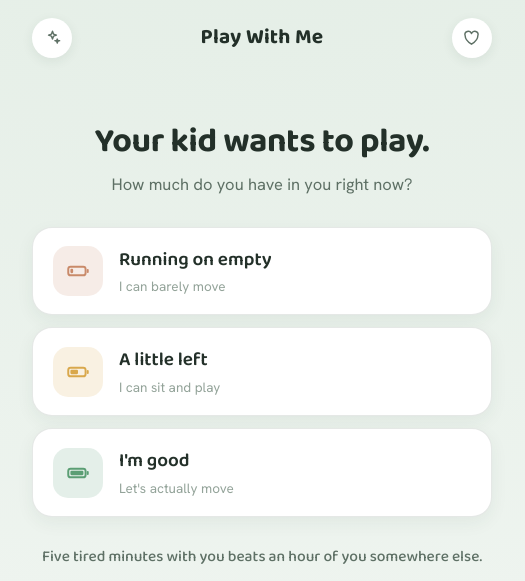
favourites › hearts an idea and shows it in the favourites view
The width and height of the screenshot is (525, 581).
Click the button "A little left I can sit and play".
click(78, 372)  # box [32,328,492,416]
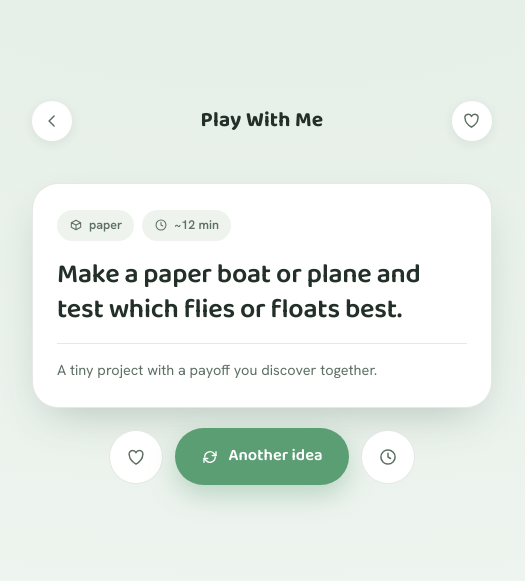
Click the button named "Love it".
click(136, 457)  # box [109,430,163,484]
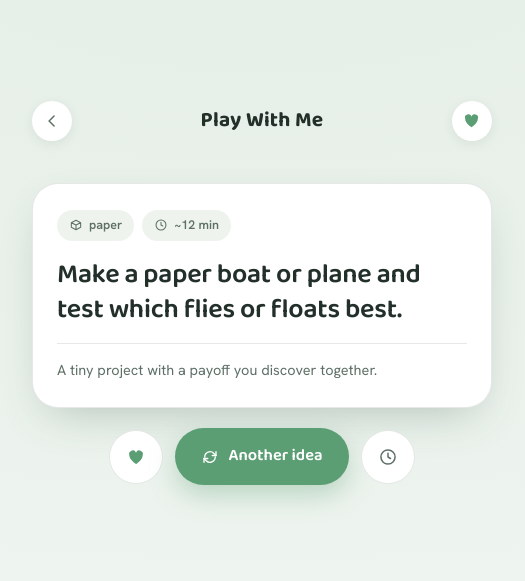
Click the button named "Favourites".
click(472, 121)  # box [452,101,492,141]
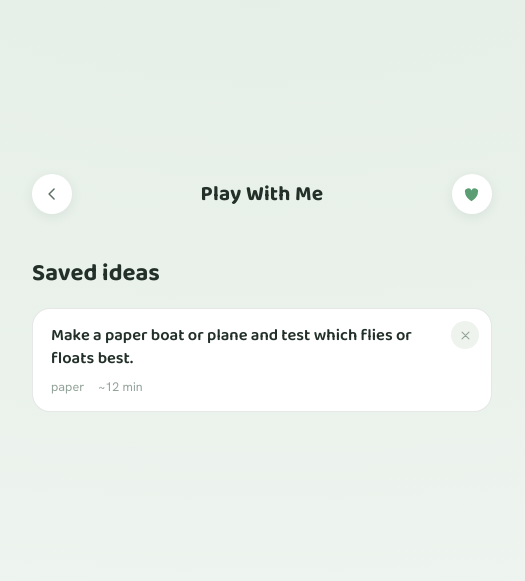
Expected: the text "Make a paper boat or plane and test which flies or floats best." is shown, [51,325,447,370]
Expected: the heading "Saved ideas" is shown, [32,254,160,293]
